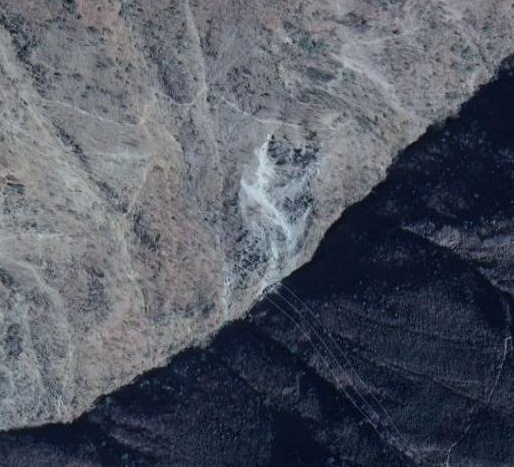slope: (234, 121, 328, 280)
